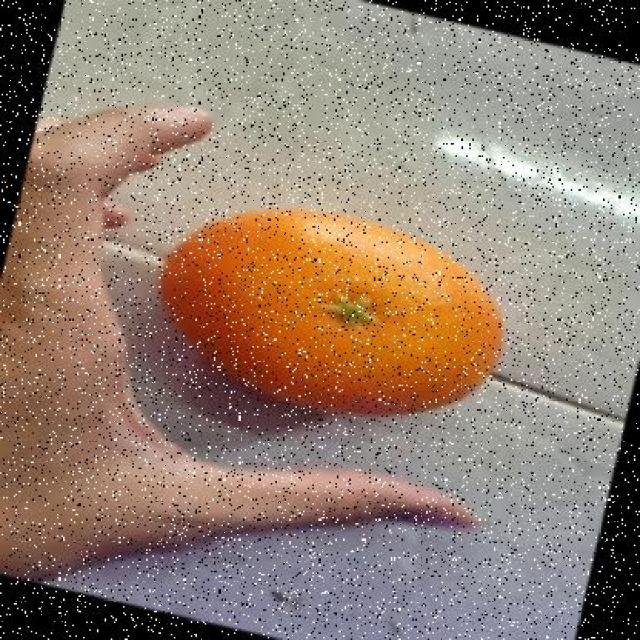Orange: (157, 205, 506, 417)
